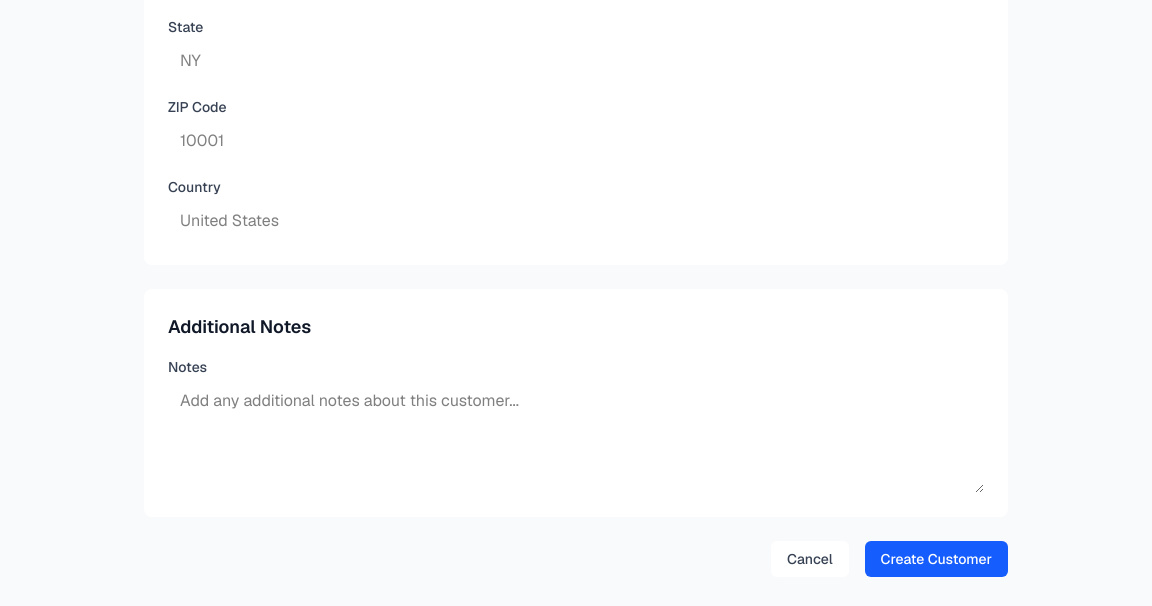
Test: NewCustomerPage › Form Validation › should display validation errors for required fields
(page scrolled)
Click the button "Create Customer" at coordinates (936, 559), box [865,541,1008,577]
(page scrolled)
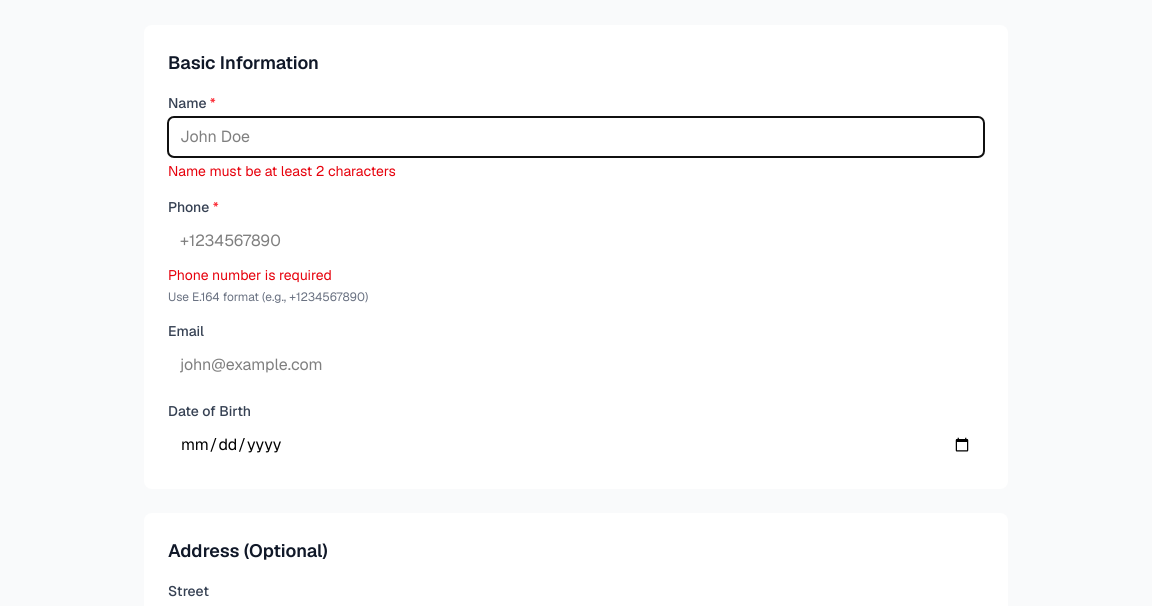
Expected: the text "Name must be at least 2 characters" is shown, [168,162,396,180]
Expected: the text "Phone number is required" is shown, [168,266,332,284]
